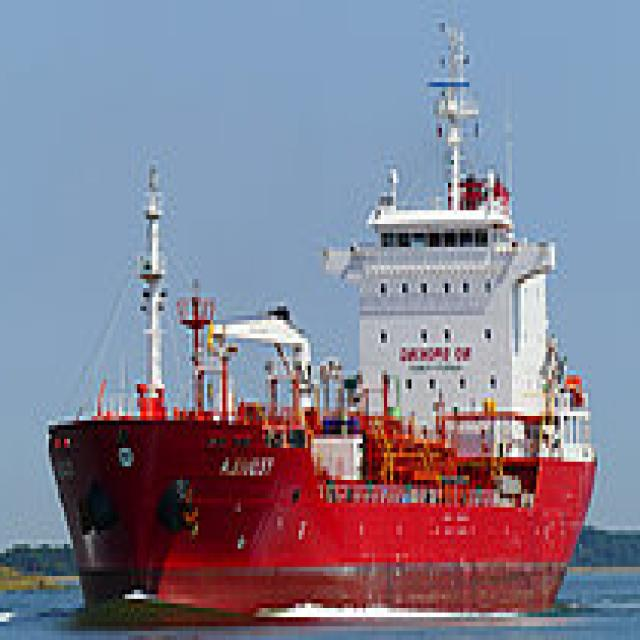Tanker: (46, 9, 603, 622)
